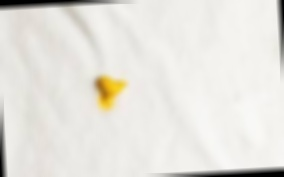mustard: (92, 71, 125, 108)
